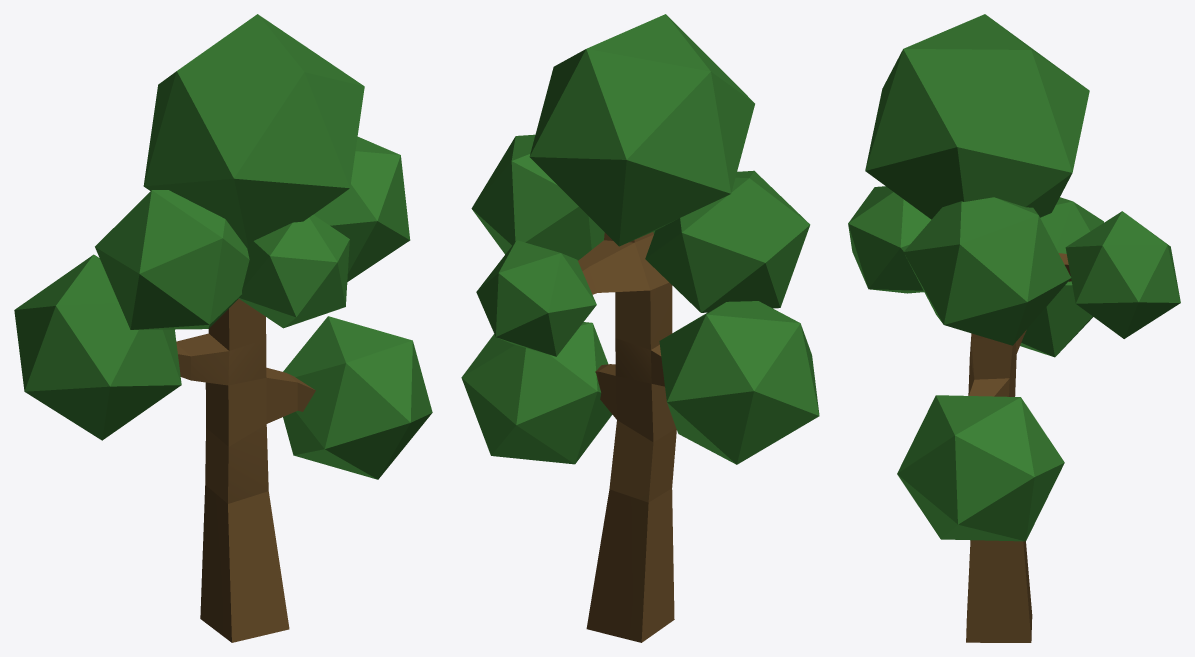
The model's file is TallTree2FinalModel.fbx.
3 views of the same model, side by side, from view 1: azimuth 30°, elevation 25°; view 2: azimuth 150°, elevation 25°; view 3: azimuth 270°, elevation 25° (orthographic). The views are drawn at different scales.
Parts seen in each view (by area): view 1: TallTree2FinalModel; view 2: TallTree2FinalModel; view 3: TallTree2FinalModel.
Part boxes in pixels (box(x1,y1,x2,y2)): TallTree2FinalModel: box(14, 14, 432, 642); TallTree2FinalModel: box(461, 14, 819, 642); TallTree2FinalModel: box(848, 14, 1180, 642).
Size of the model in its own units: 368 by 556 by 283.
